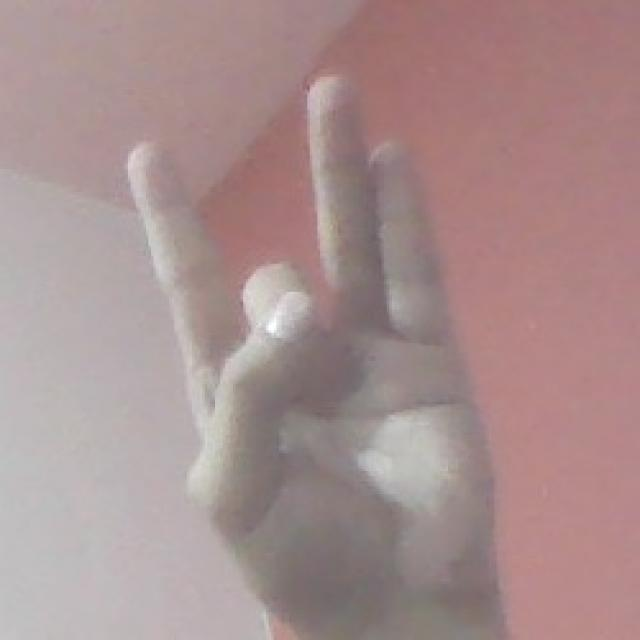Numeric-8: (121, 69, 498, 615)
